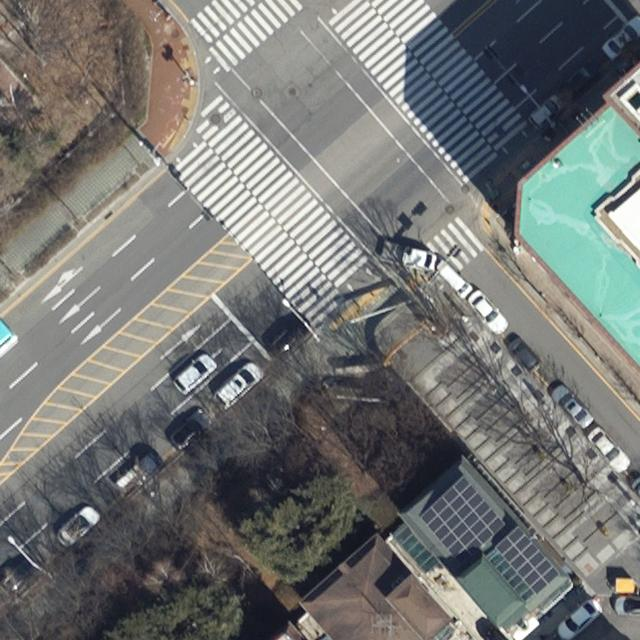solarpanel: (417, 474, 509, 566), (494, 525, 561, 597)
